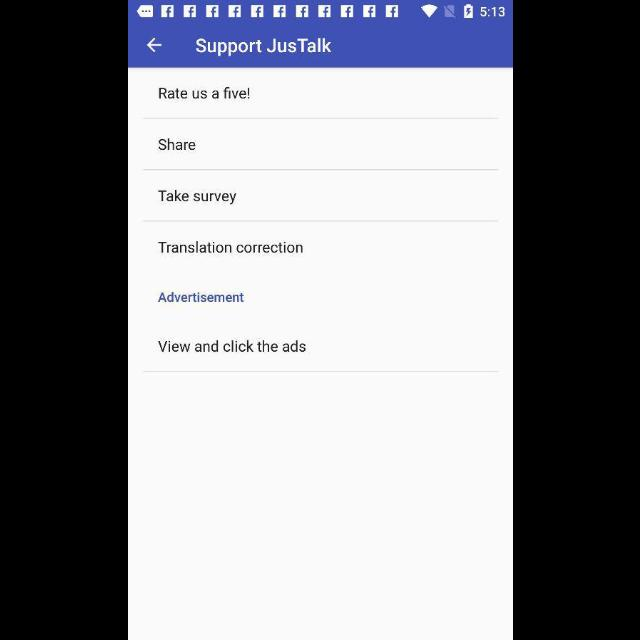icon: (146, 37, 162, 54)
text: (195, 38, 331, 58), (158, 340, 306, 352), (158, 242, 302, 254), (158, 190, 236, 206), (158, 87, 250, 99), (156, 292, 244, 302), (158, 139, 196, 151)
toolbar: (128, 24, 512, 68)
uppertaskbar: (128, 1, 512, 19)
